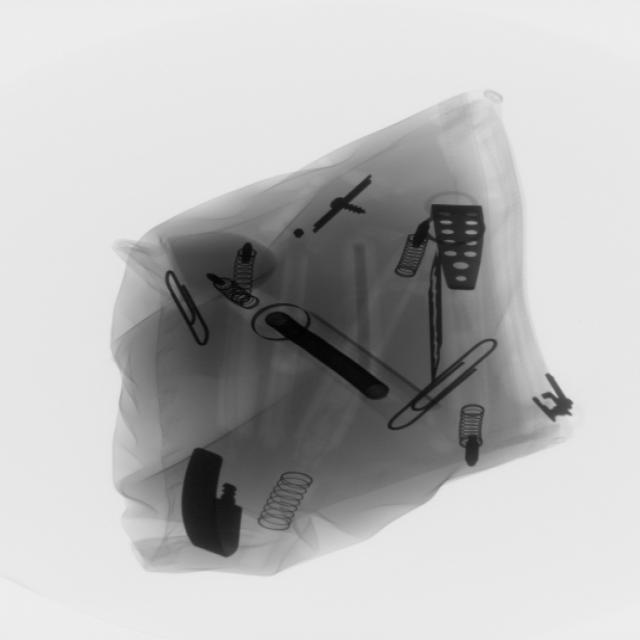SHURIKEN: (419, 257, 454, 384)
